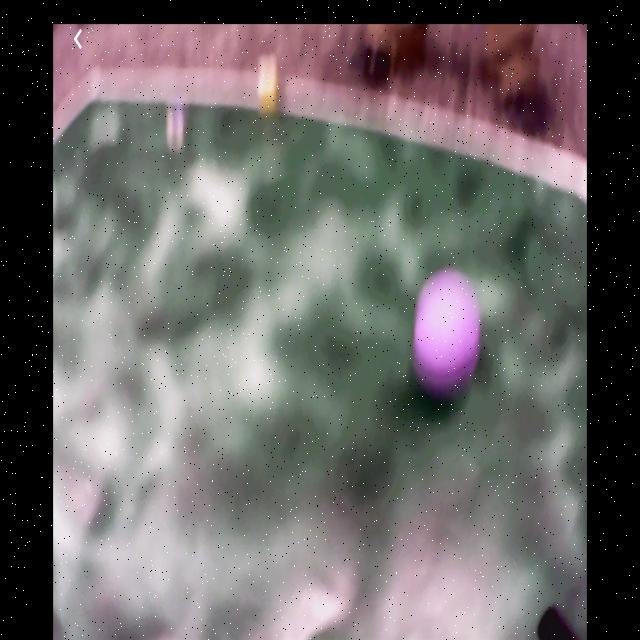ball: (417, 275, 482, 389)
